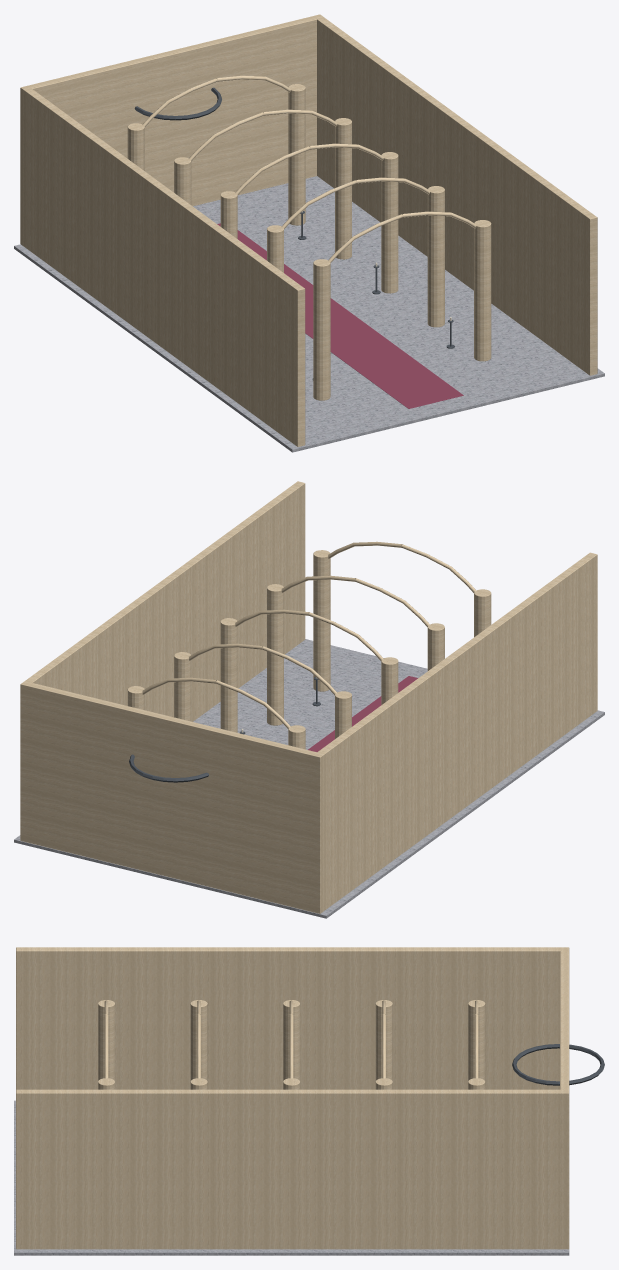
Rendered from gothic-lite.glb.
The picture shows the model from 3 angles, top to bottom: view 1: azimuth 30°, elevation 25°; view 2: azimuth 150°, elevation 25°; view 3: azimuth 270°, elevation 25°; orthographic projection.
Visible parts, largest first — view 1: West limestone wall, East limestone wall, Marble nave floor, Apse wall, Crimson nave runner, Clustered pier -4.5 9, Clustered pier 4.5 9, Clustered pier 4.5 4.5, Clustered pier 4.5 0, Clustered pier 4.5 -9, Clustered pier 4.5 -4.5, Clustered pier -4.5 -4.5 (+3 smaller); view 2: Apse wall, West limestone wall, East limestone wall, Marble nave floor, Clustered pier 4.5 9, Clustered pier 4.5 4.5, Clustered pier 4.5 0, Clustered pier 4.5 -4.5, Clustered pier -4.5 4.5, Clustered pier -4.5 0, Clustered pier -4.5 9, Clustered pier -4.5 -4.5 (+1 smaller); view 3: East limestone wall, West limestone wall, Marble nave floor, Apse wall, Clustered pier -4.5 -9, Clustered pier -4.5 0, Clustered pier -4.5 9, Clustered pier -4.5 -4.5, Clustered pier -4.5 4.5, Rose window frame.
Part boxes in pixels (left/top/right/bottom): West limestone wall: left=24, top=88, right=305, bottom=446; East limestone wall: left=317, top=17, right=597, bottom=375; Marble nave floor: left=14, top=176, right=604, bottom=452; Apse wall: left=20, top=14, right=323, bottom=246; Crimson nave runner: left=217, top=223, right=463, bottom=408; Clustered pier -4.5 9: left=313, top=259, right=330, bottom=400; Clustered pier 4.5 9: left=474, top=220, right=491, bottom=361; Clustered pier 4.5 4.5: left=427, top=186, right=444, bottom=327; Clustered pier 4.5 0: left=381, top=152, right=398, bottom=293; Clustered pier 4.5 -9: left=288, top=84, right=305, bottom=225; Clustered pier 4.5 -4.5: left=335, top=118, right=351, bottom=259; Clustered pier -4.5 -4.5: left=174, top=157, right=191, bottom=204; Apse wall: left=20, top=681, right=324, bottom=913; West limestone wall: left=317, top=552, right=597, bottom=910; East limestone wall: left=25, top=481, right=305, bottom=721; Marble nave floor: left=14, top=639, right=604, bottom=918; Clustered pier 4.5 9: left=313, top=550, right=330, bottom=691; Clustered pier 4.5 4.5: left=267, top=584, right=283, bottom=725; Clustered pier 4.5 0: left=220, top=618, right=237, bottom=732; Clustered pier 4.5 -4.5: left=174, top=652, right=191, bottom=721; Clustered pier -4.5 4.5: left=427, top=623, right=444, bottom=670; Clustered pier -4.5 0: left=381, top=657, right=398, bottom=704; Clustered pier -4.5 9: left=474, top=589, right=491, bottom=637; Clustered pier -4.5 -4.5: left=335, top=691, right=351, bottom=738; East limestone wall: left=16, top=1089, right=560, bottom=1249; West limestone wall: left=16, top=947, right=560, bottom=1089; Marble nave floor: left=14, top=1100, right=569, bottom=1255; Apse wall: left=560, top=947, right=569, bottom=1249; Clustered pier -4.5 -9: left=468, top=1000, right=485, bottom=1081; Clustered pier -4.5 0: left=283, top=1000, right=300, bottom=1081; Clustered pier -4.5 9: left=98, top=1000, right=115, bottom=1081; Clustered pier -4.5 -4.5: left=375, top=1000, right=392, bottom=1080; Clustered pier -4.5 4.5: left=190, top=1000, right=207, bottom=1081; Rose window frame: left=512, top=1044, right=604, bottom=1085.
Bounding box in the file's own units: 17.5 × 8.91 × 28.74.
5 materials, 2 textured.
